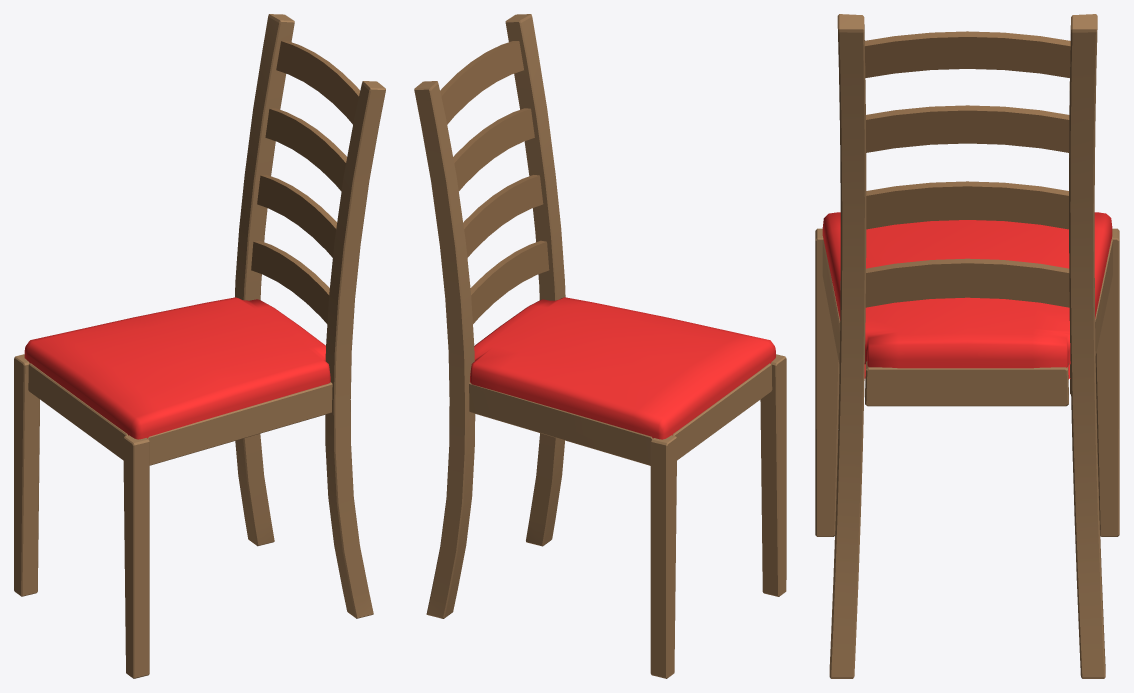
The model's file is kitchen_chair_2.FBX.
The picture shows the model from 3 angles, left to right: view 1: azimuth 30°, elevation 25°; view 2: azimuth 150°, elevation 25°; view 3: azimuth 270°, elevation 25°; orthographic projection. The views are drawn at different scales.
Parts seen in each view (by area): view 1: kitchen_chair_2; view 2: kitchen_chair_2; view 3: kitchen_chair_2.
Boxes of the visible parts, left/top/right/bottom form: kitchen_chair_2: left=14, top=14, right=385, bottom=678; kitchen_chair_2: left=414, top=14, right=786, bottom=678; kitchen_chair_2: left=815, top=14, right=1119, bottom=678.
Bounding box in the file's own units: 0.5281 × 1.01 × 0.418.
